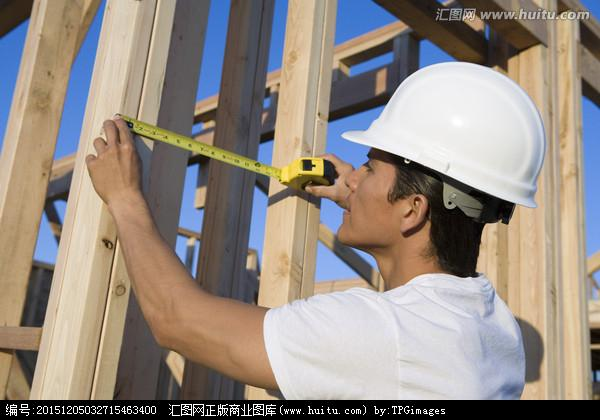helmet: (358, 63, 552, 206)
